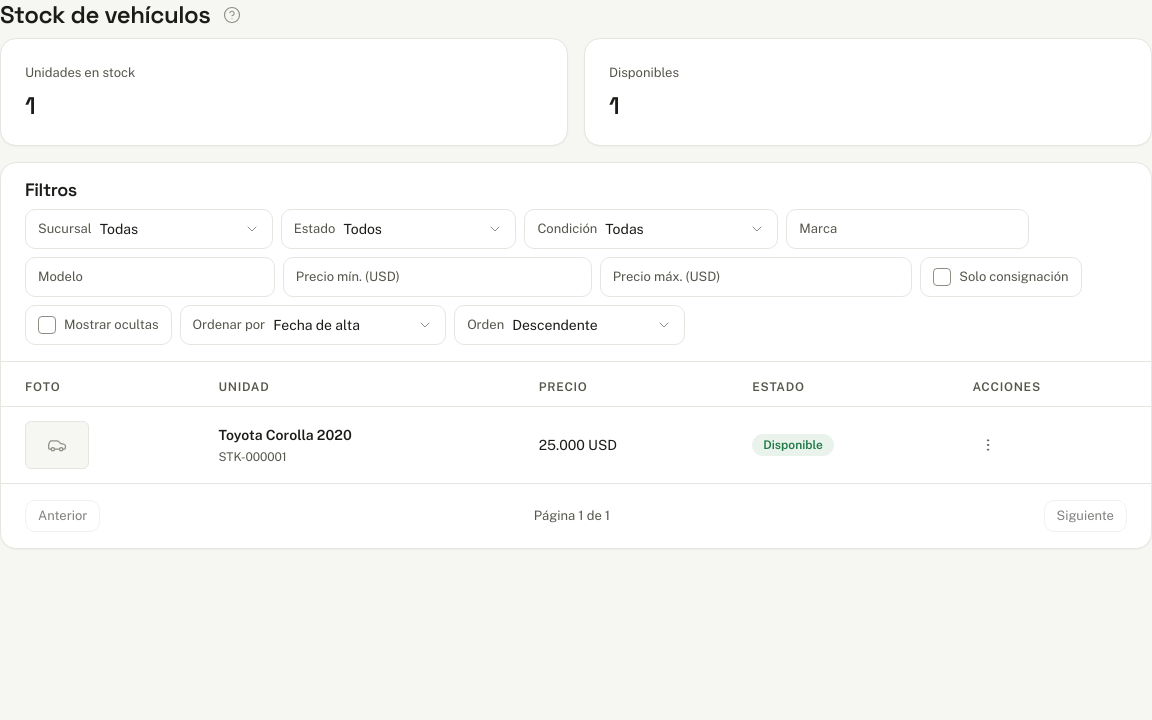
Test case: VehicleListPage › F-02: un USER abre Ver detalle (su única acción) y ve el costo y el precio mínimo
This screenshot has width=1152, height=720.
Expected: the text "Toyota Corolla 2020" is shown, [218,424,352,446]
Click the button named "Más acciones" at [988, 445], box [972,429,1004,461]
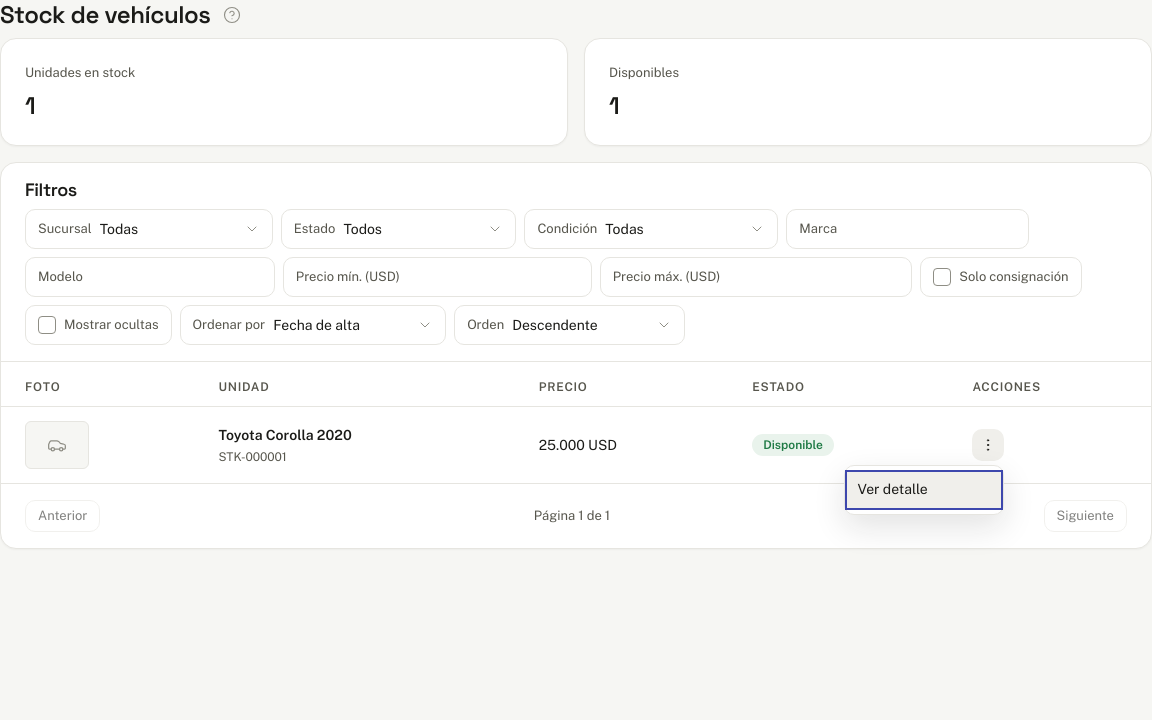
Result: the menu items read "Ver detalle", in this order
Click the menu item "Ver detalle" at [924, 490], box [845,470,1003,510]
(page scrolled)
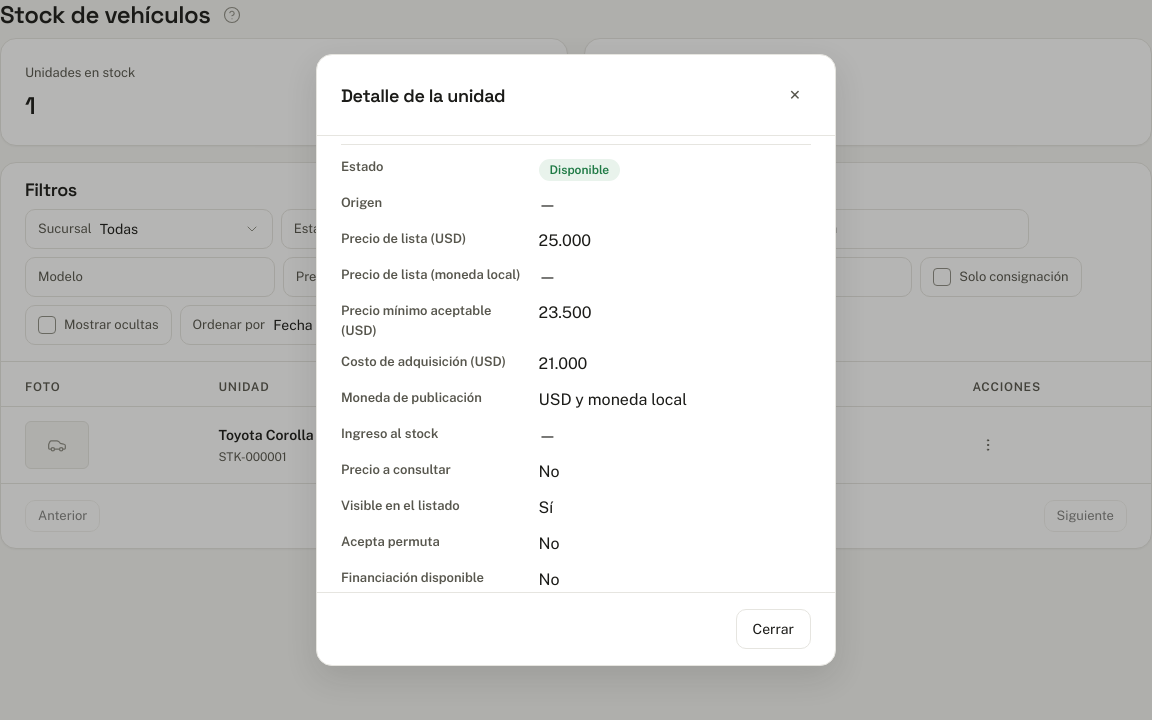
Result: the text "Precio mínimo aceptable (USD)" is shown at [341,303,491,338]
Result: the text "23.500" is shown at [539,303,592,322]
Result: the text "Costo de adquisición (USD)" is shown at [341,352,523,376]
